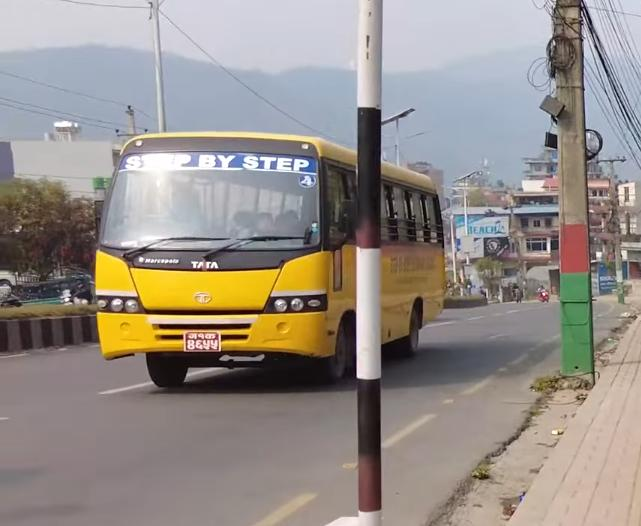school_bus: (92, 120, 445, 388)
